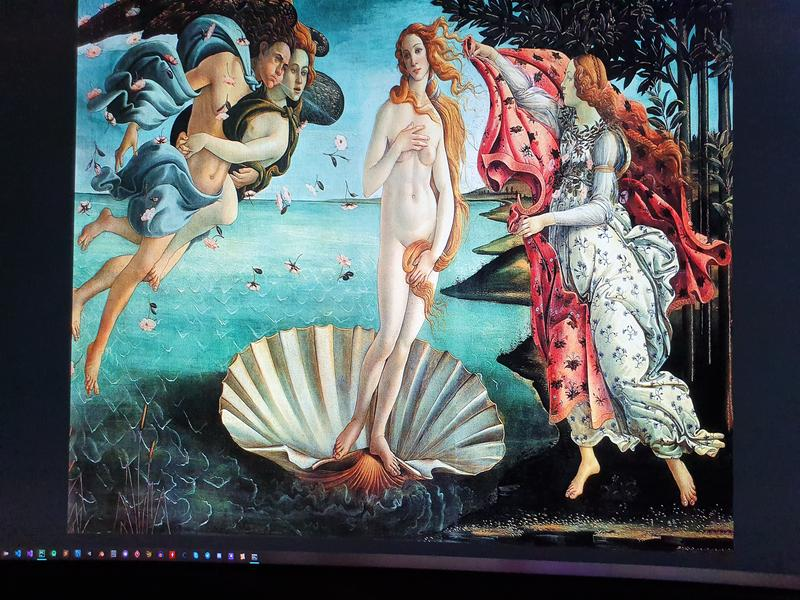Venere: (70, 1, 740, 553)
